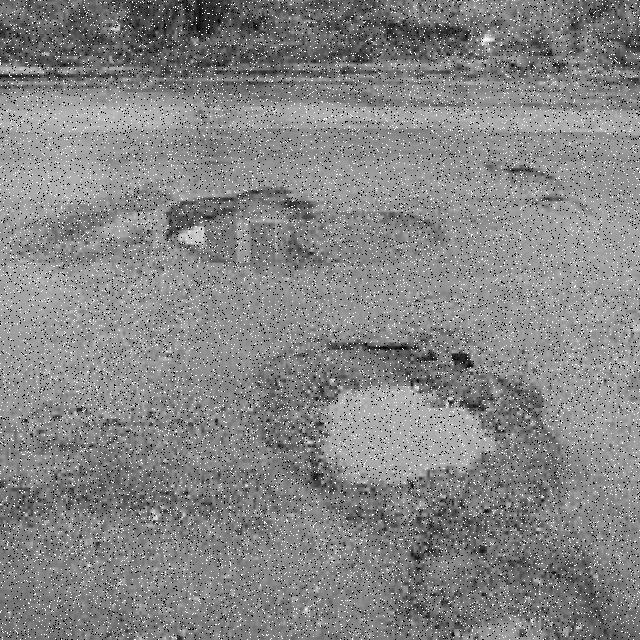pothole: (318, 386, 492, 488), (166, 194, 297, 266), (436, 600, 560, 640)
